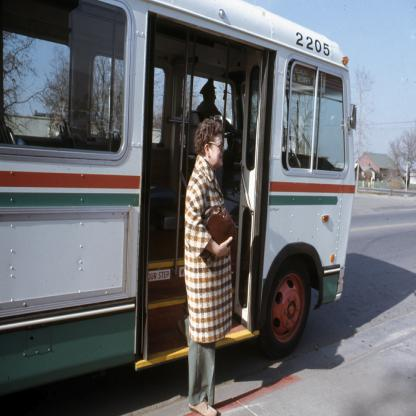Bus: (0, 0, 357, 396)
